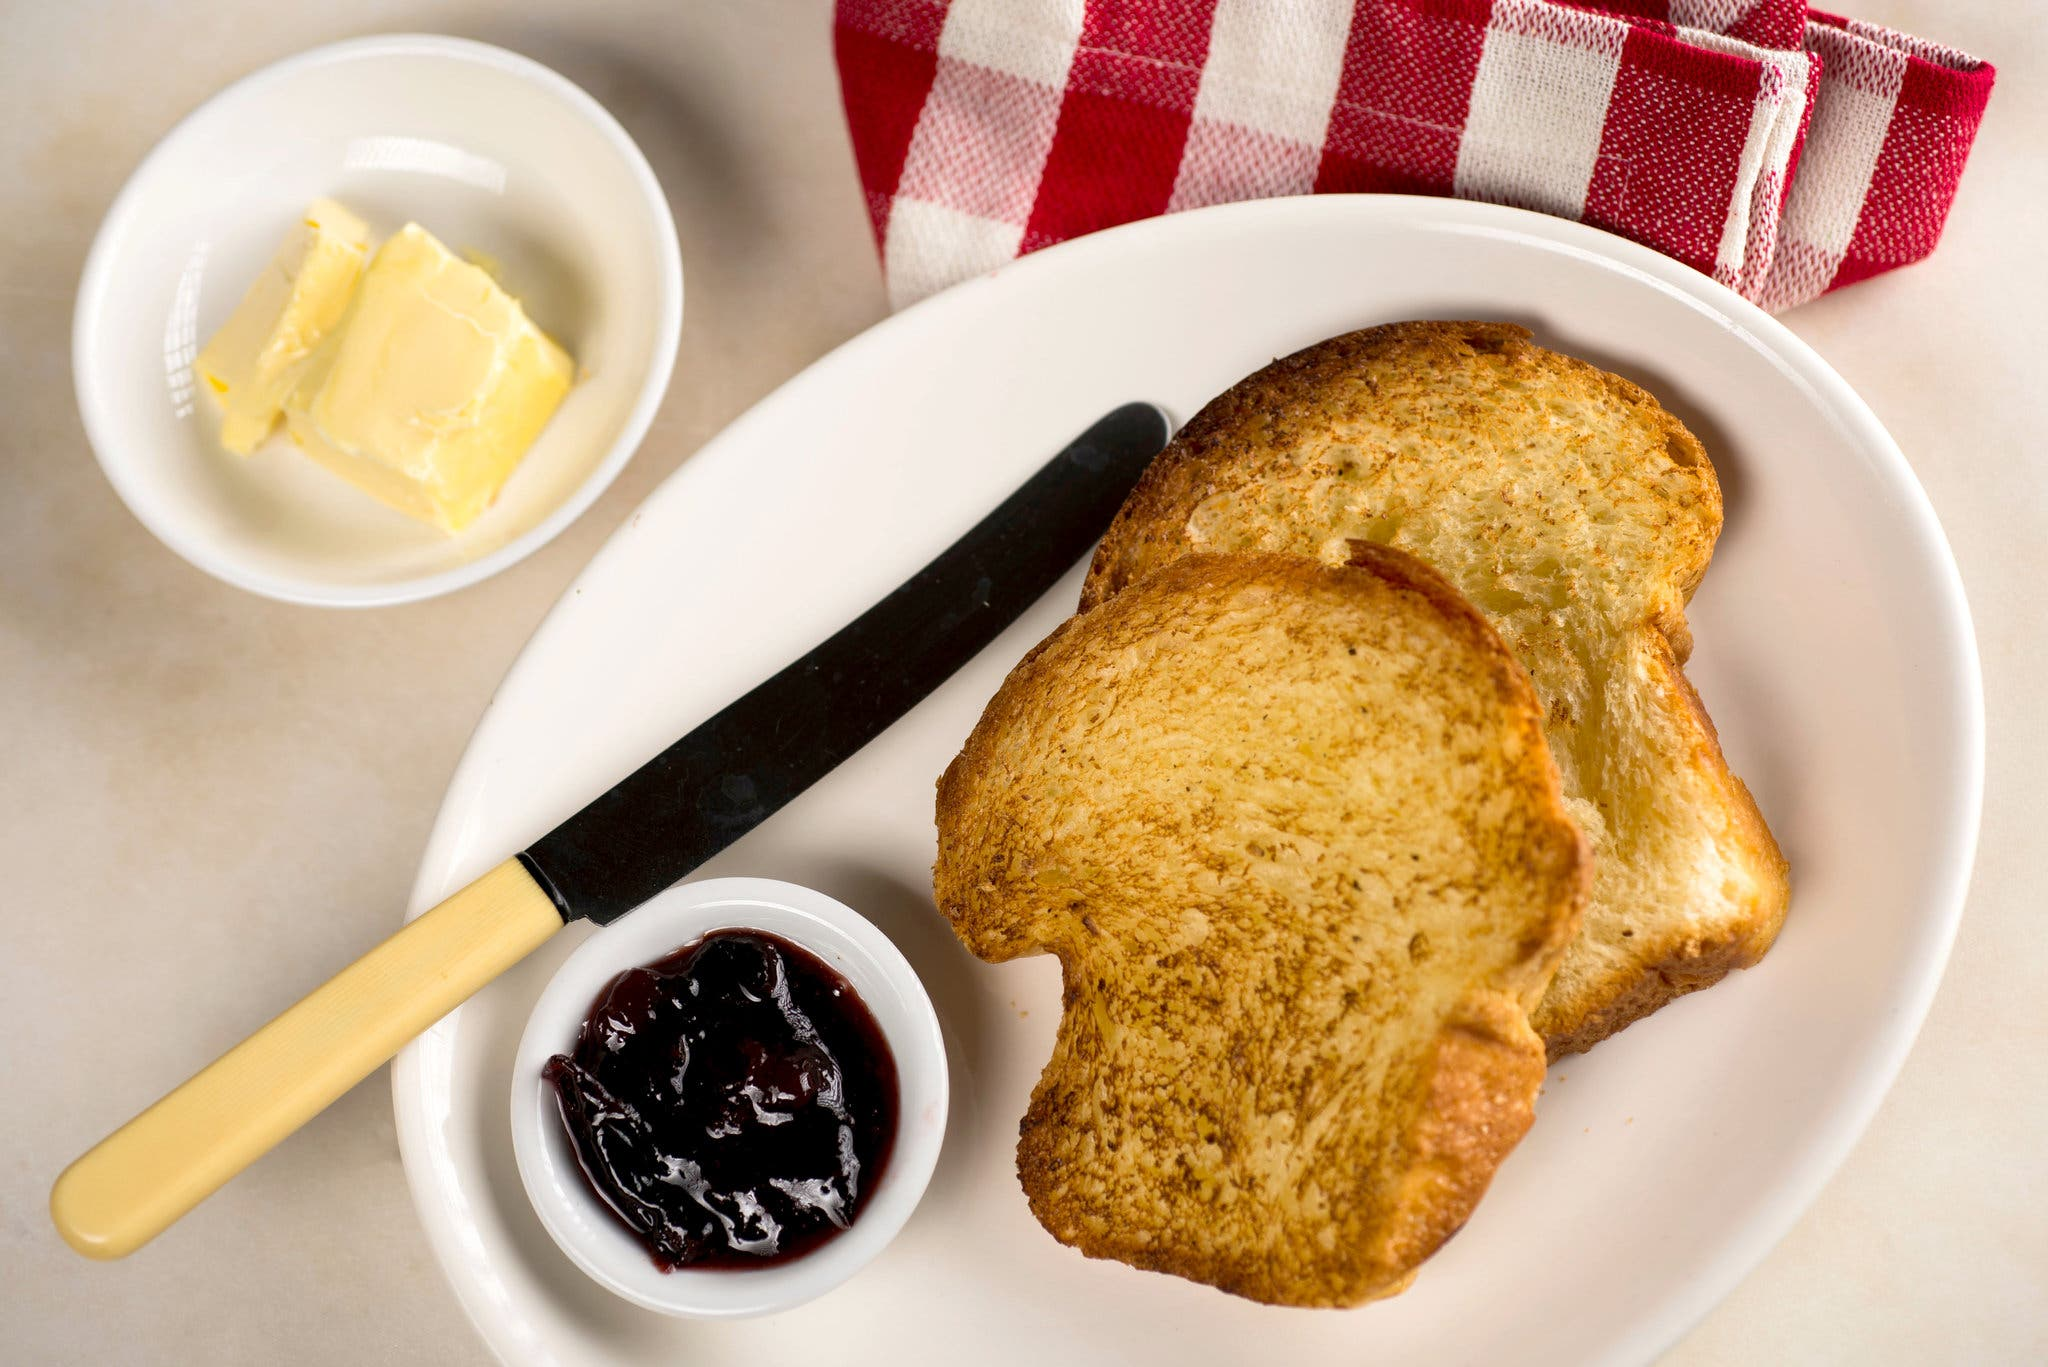Toast: (942, 548, 1587, 1311), (1080, 317, 1740, 1057)
